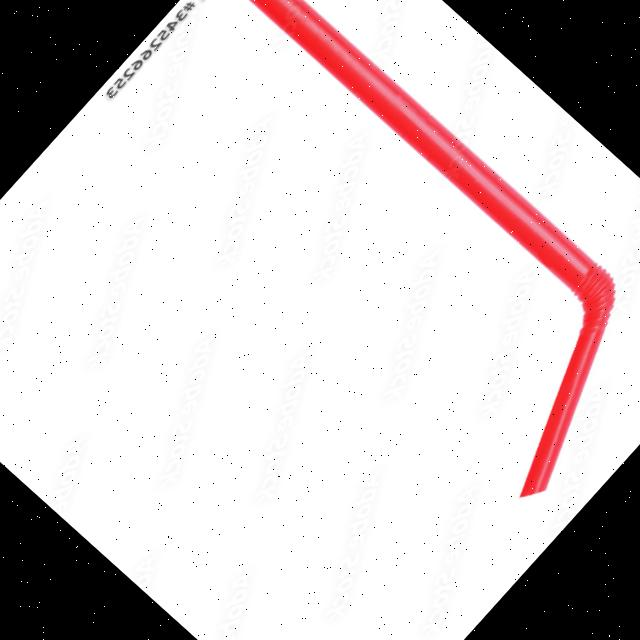plastic: (83, 0, 640, 551)
